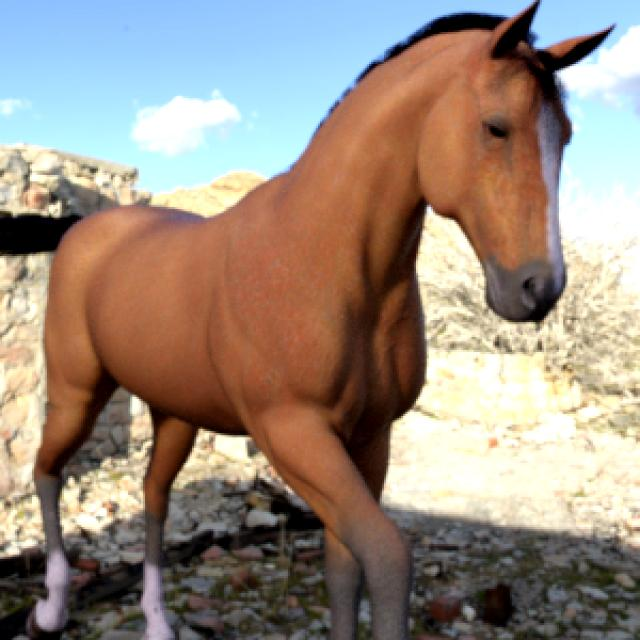horse: (30, 2, 612, 640), (0, 219, 71, 253)
